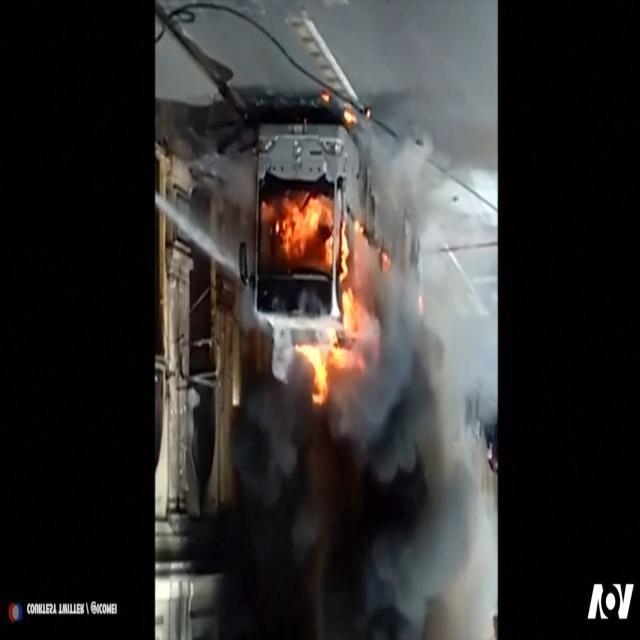fire: (265, 185, 384, 408)
